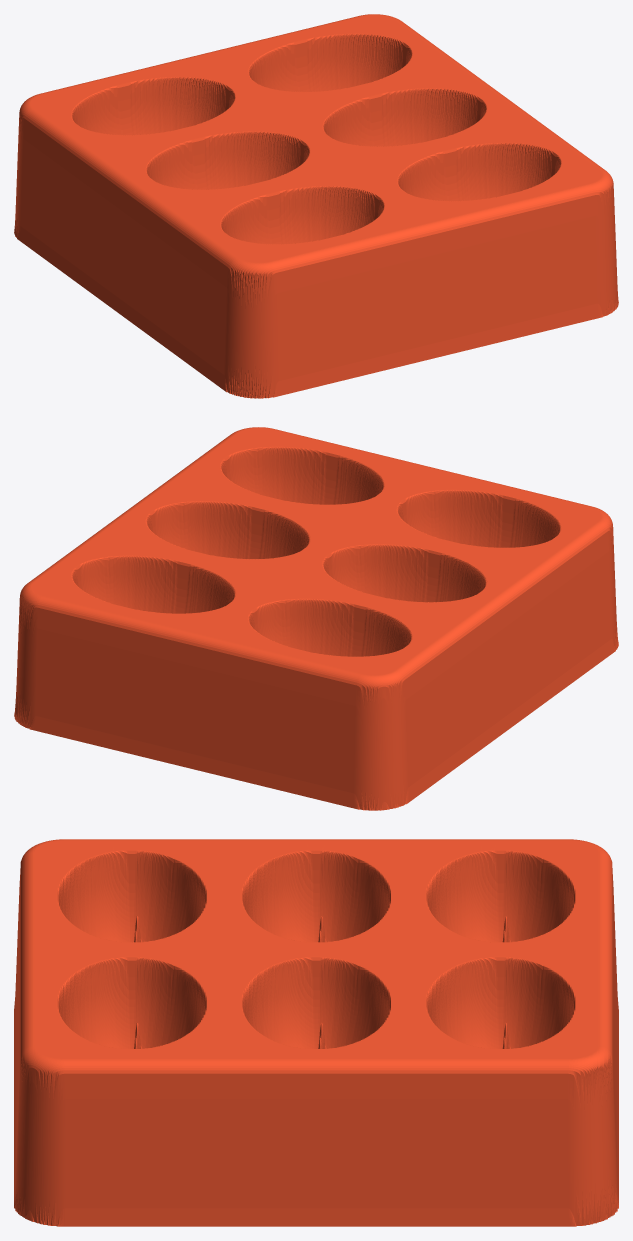
Rendered from mold.glb.
3 views of the same model, one above another, from view 1: azimuth 30°, elevation 25°; view 2: azimuth 150°, elevation 25°; view 3: azimuth 270°, elevation 25° (orthographic). The views are drawn at different scales.
Parts seen in each view (by area): view 1: geometry_0; view 2: geometry_0; view 3: geometry_0.
Part boxes in pixels (bbox=[...]): geometry_0: bbox=[14, 14, 618, 398]; geometry_0: bbox=[14, 427, 618, 810]; geometry_0: bbox=[14, 839, 618, 1226].
Bounding box in the file's own units: 0.0996 × 0.0314 × 0.1081.
